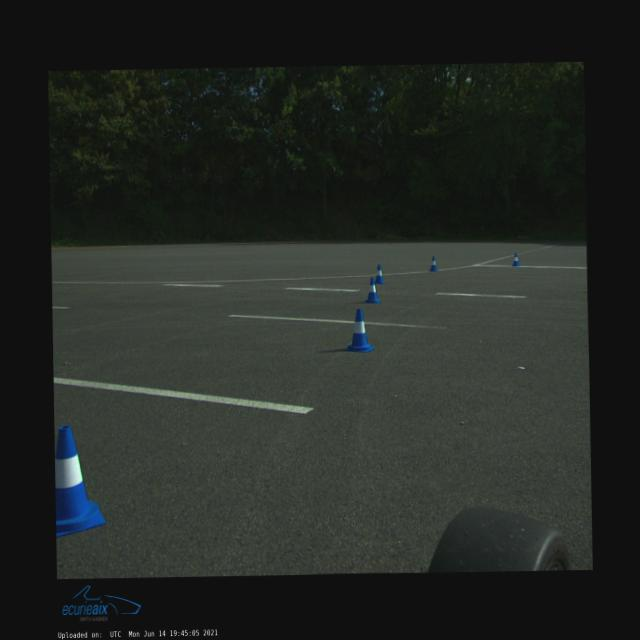blue_cone: (54, 424, 106, 536), (344, 308, 374, 352), (363, 277, 380, 303), (374, 264, 384, 284), (428, 256, 438, 270), (511, 252, 520, 266)
